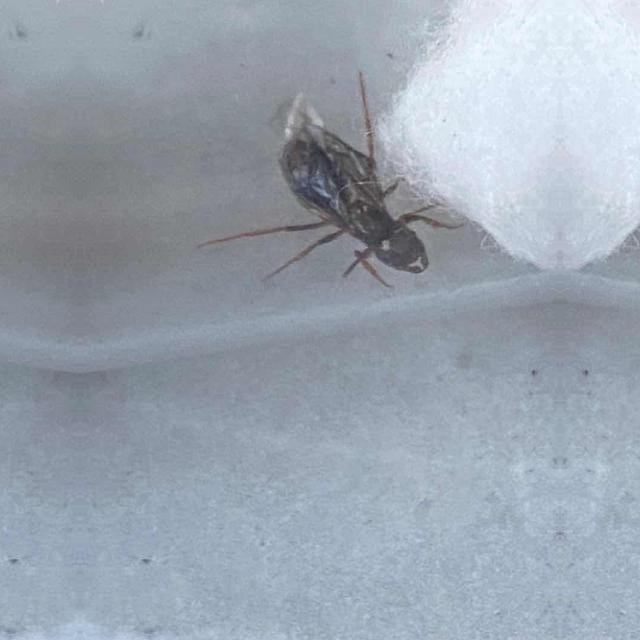Lasius: (276, 80, 449, 298)
